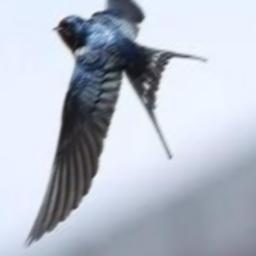Swallow: (23, 0, 207, 249)
